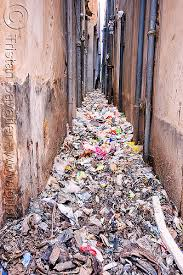garbage: (31, 201, 173, 275), (56, 158, 143, 275), (83, 102, 116, 275)
